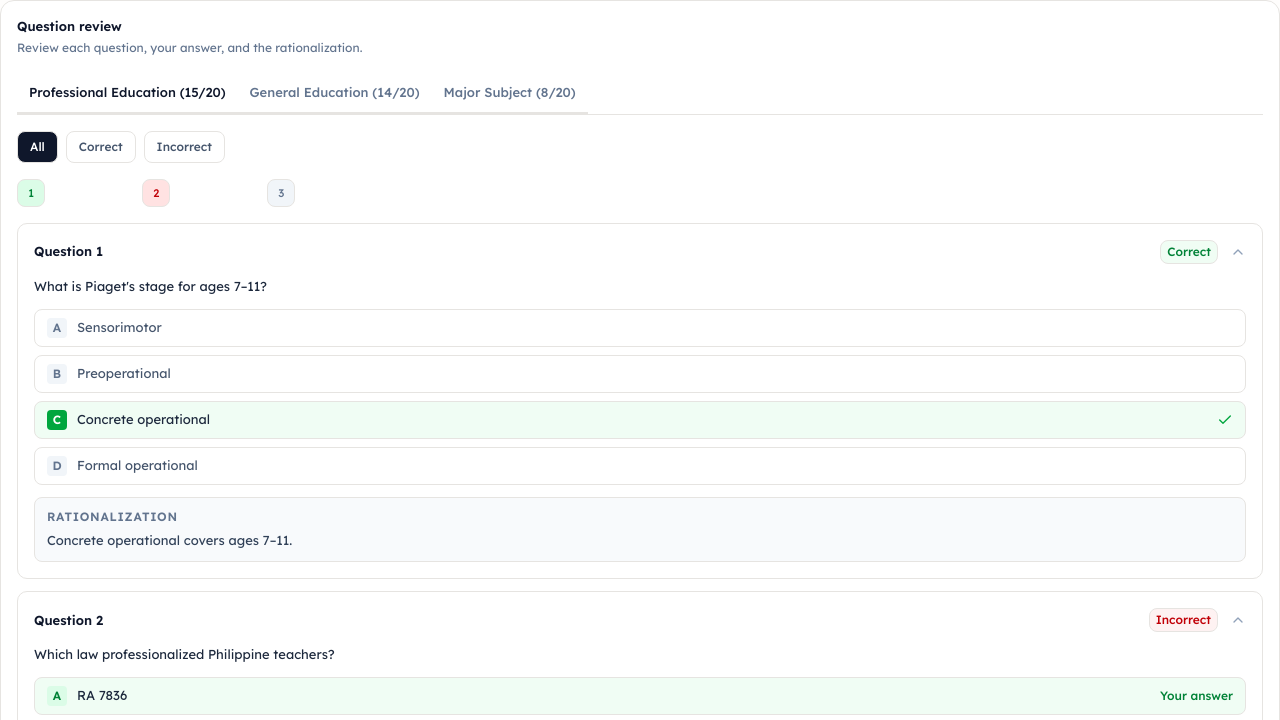
Test: QuestionReview › filters questions by section when a tab is clicked
Expected: the text "What is Piaget's stage for ages 7–11?" is shown, [34,278,267,294]
Expected: the text "General Ed: English grammar question." is not shown
Click the tab "General Education (14/20)". click: (335, 93)
box: [238,72,432,114]
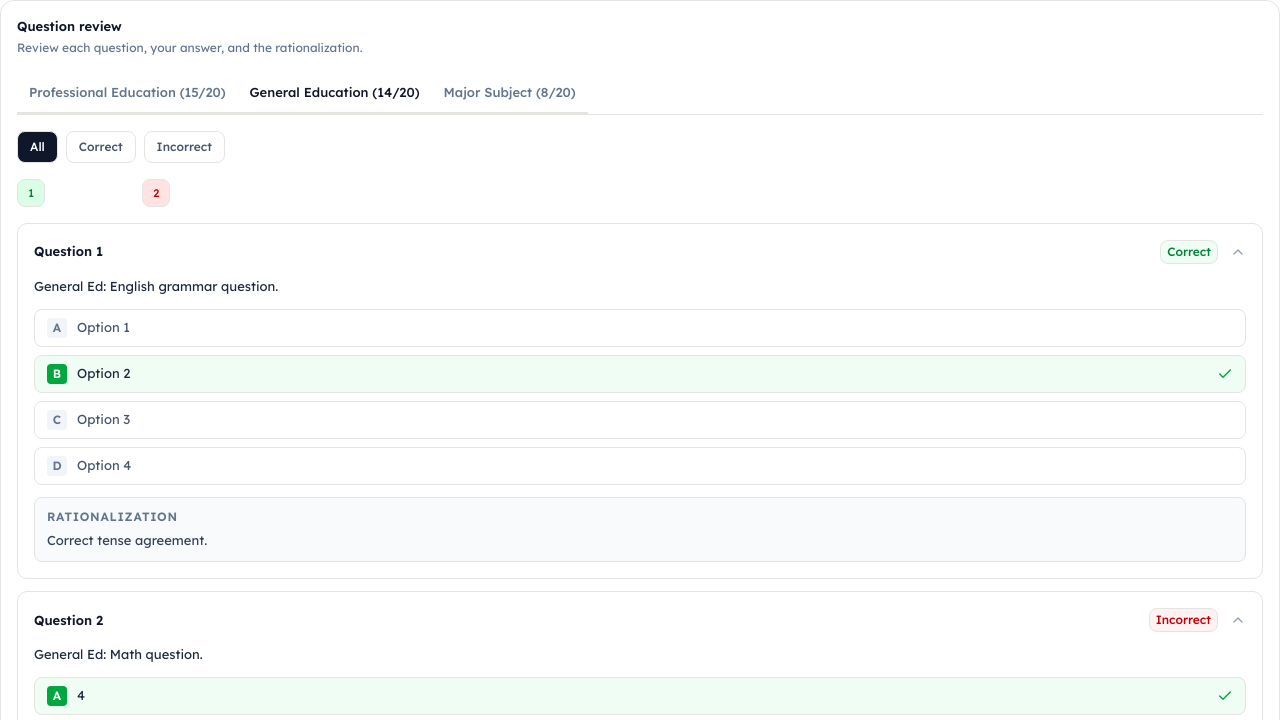
Result: the text "General Ed: English grammar question." is shown at [34,278,278,294]
Result: the text "General Ed: Math question." is shown at [34,646,203,662]
Result: the text "What is Piaget's stage for ages 7–11?" is gone
